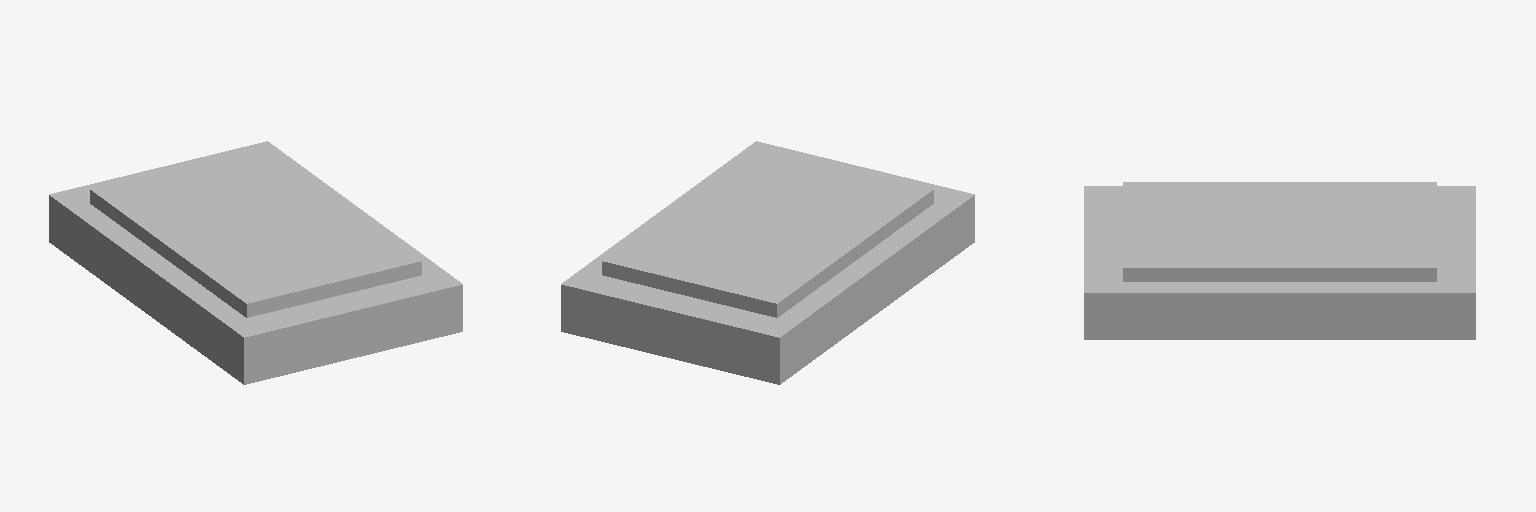
The model's file is InteractableItem_Tablet_OBJ.obj.
3 views of the same model, side by side, from view 1: azimuth 30°, elevation 25°; view 2: azimuth 150°, elevation 25°; view 3: azimuth 270°, elevation 25° (orthographic).
Visible parts, largest first — view 1: pCube1; view 2: pCube1; view 3: pCube1.
Part boxes in pixels (x1,y1,x2,y2): pCube1: (49, 141, 462, 384); pCube1: (561, 141, 974, 384); pCube1: (1084, 182, 1475, 339).
Size of the model in its own units: 0.097 by 0.026 by 0.15.